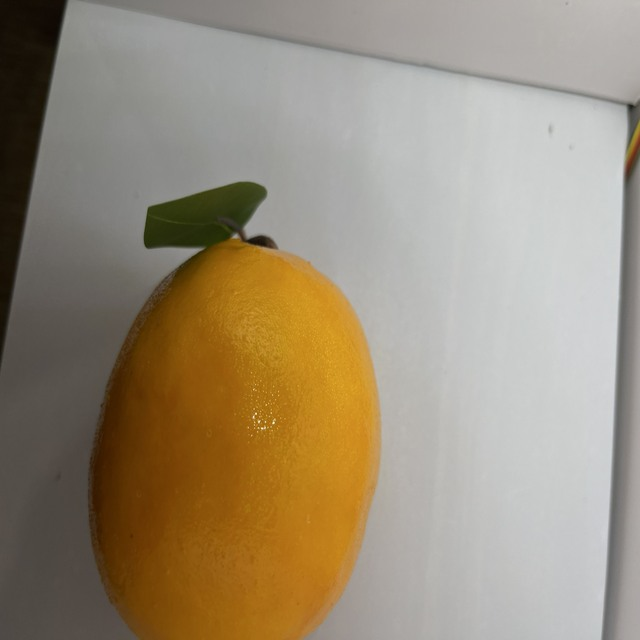Cam vang: (81, 221, 383, 640)
